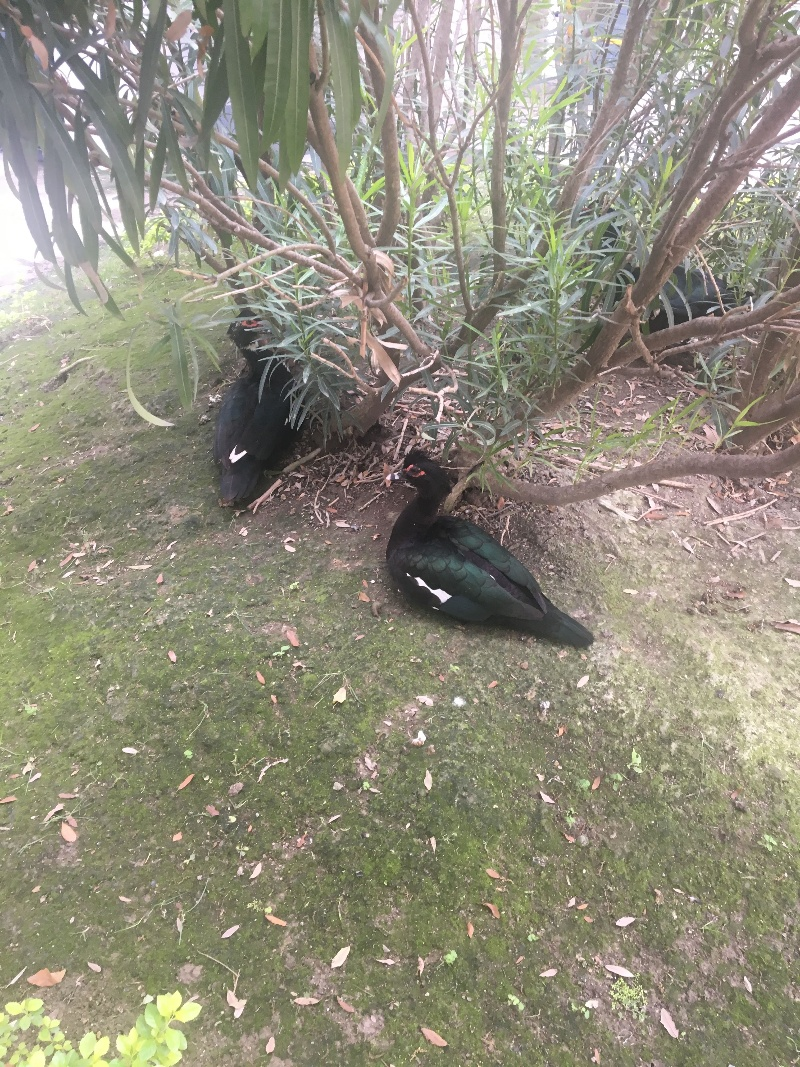pato: (374, 451, 574, 654), (212, 308, 287, 499)
